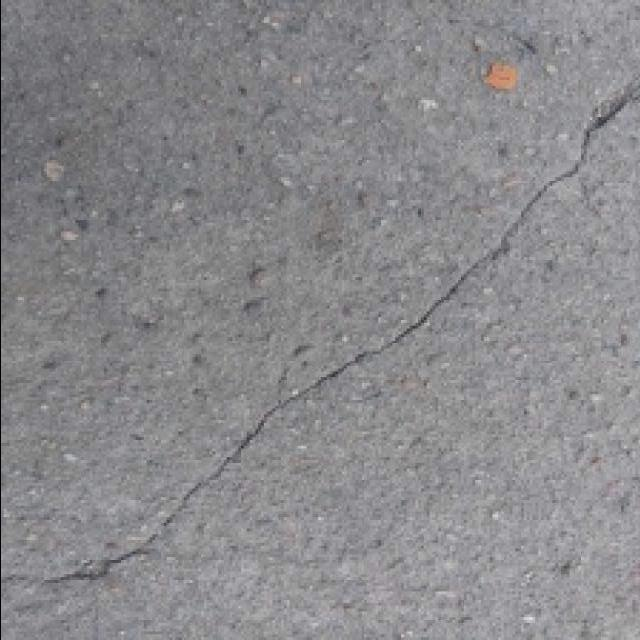SurfaceCrack: (6, 88, 640, 602)
